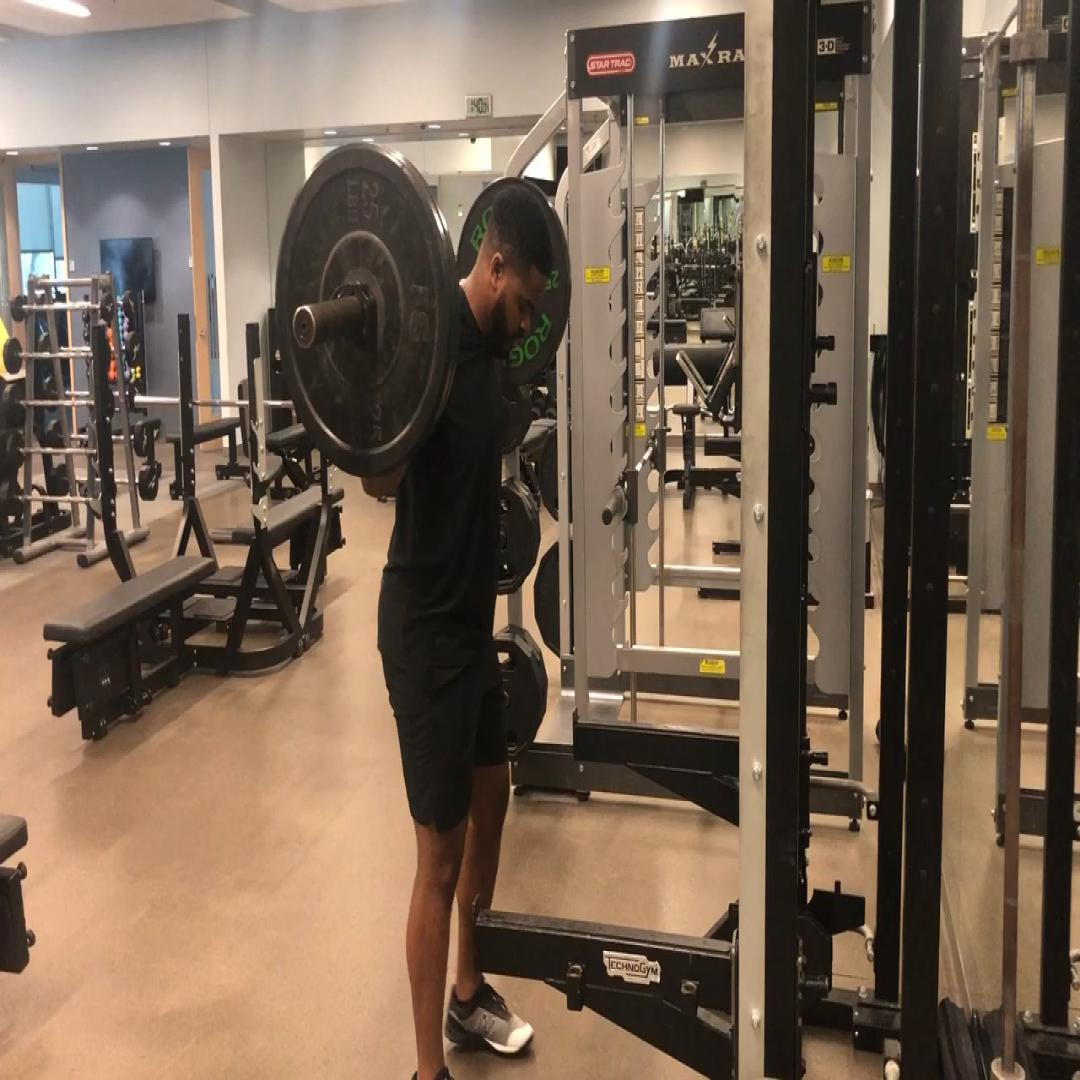Bar: (292, 306, 316, 350)
Barbell: (275, 142, 449, 478)
